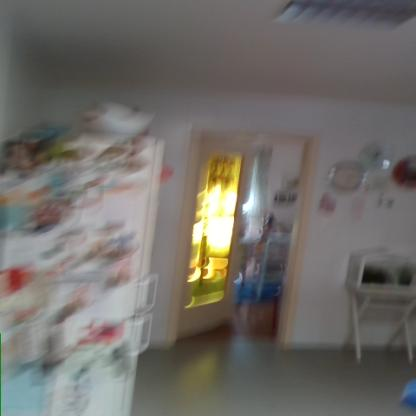semi: (167, 114, 341, 379)
